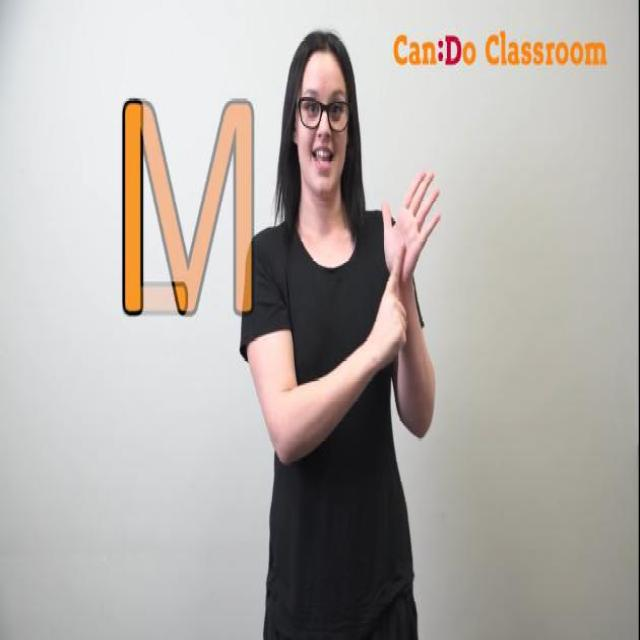L: (356, 149, 456, 403)
